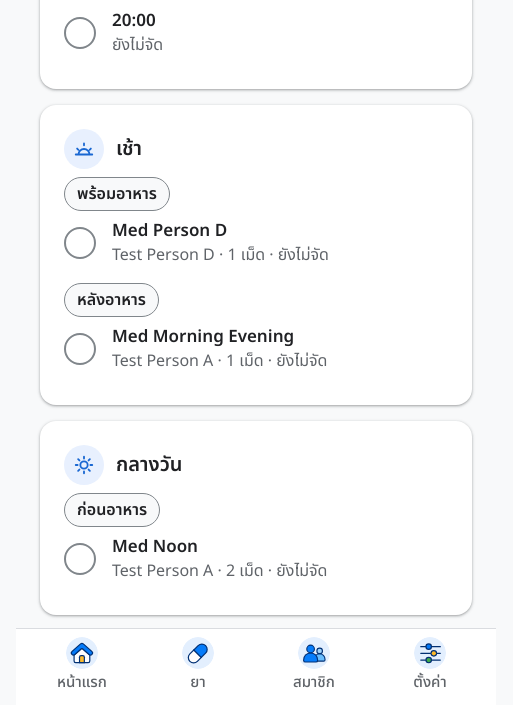
Test: today screen › a new day starts with no ticks (the app was left open over midnight)
(page scrolled)
Click the checkbox labelled "Med Morning Evening Test Person A · 1 เม็ด · ยังไม่จัด": point(256, 349) top-left (64, 317), bottom-right (448, 381)
(page scrolled)
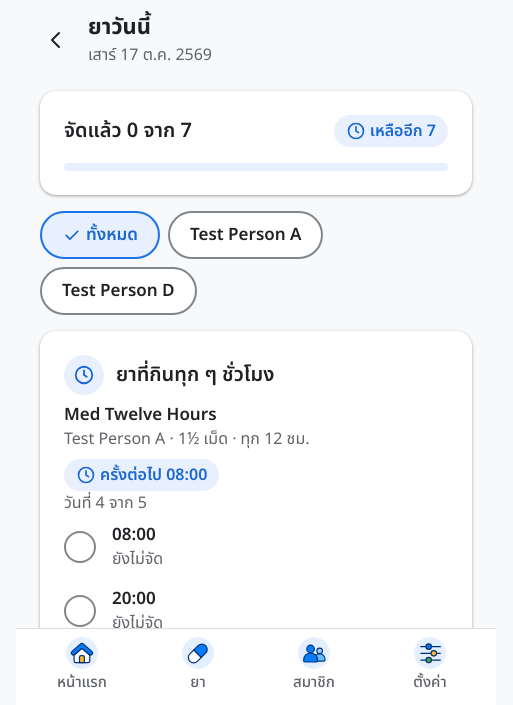
Expected: the text "จัดแล้ว 0 จาก 7" is shown, top-left (64, 117), bottom-right (192, 145)
Expected: the text "เสาร์ 17 ต.ค. 2569" is shown, top-left (88, 43), bottom-right (212, 67)
